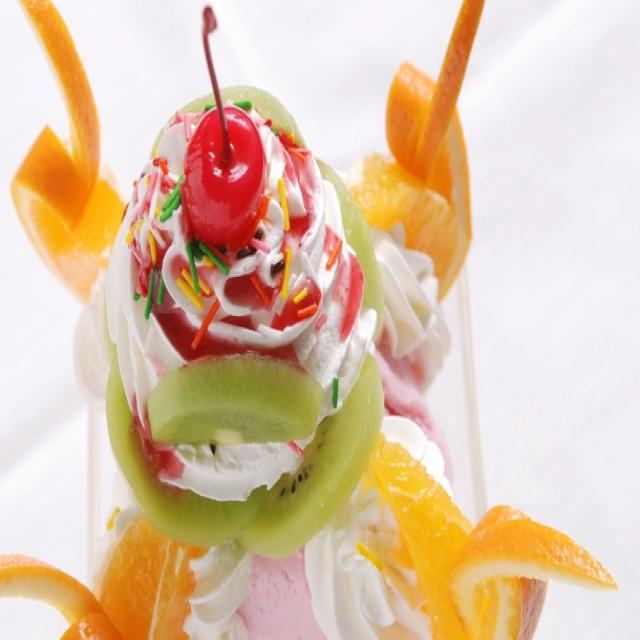蛋糕甜品: (29, 28, 604, 612)
